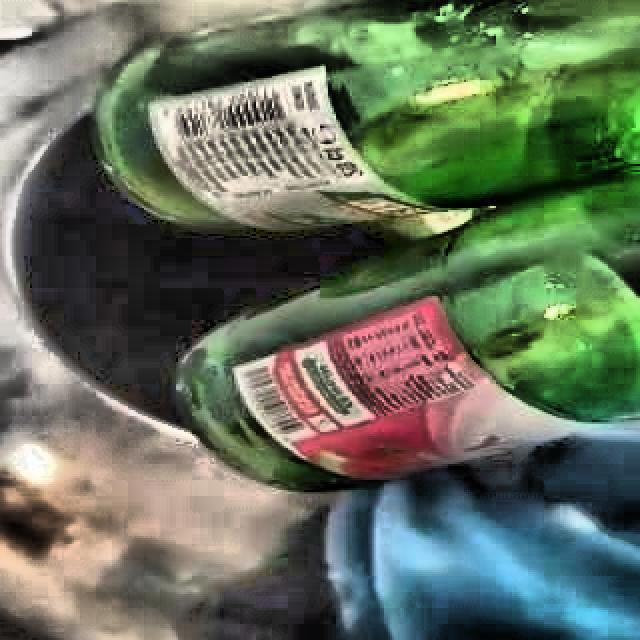glass: (91, 0, 640, 492)
